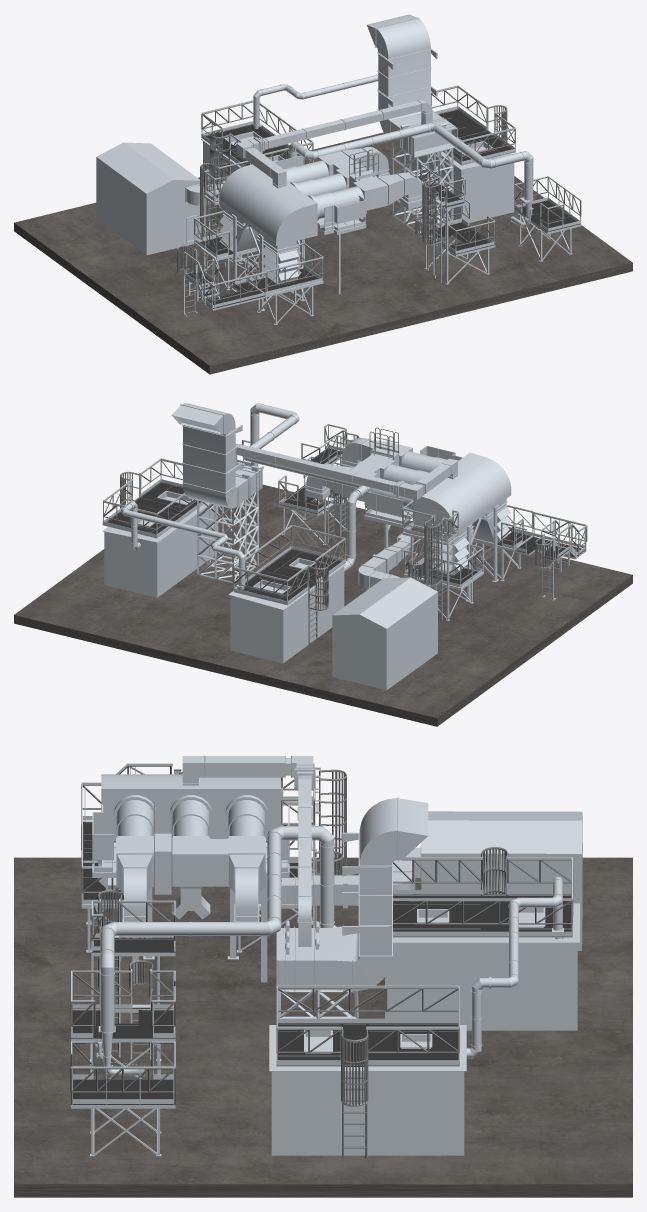
Rendered from part_of_nuclear_power_plant_reactor.glb.
3 renders of one model, top to bottom at view 1: azimuth 30°, elevation 25°; view 2: azimuth 150°, elevation 25°; view 3: azimuth 270°, elevation 25°, orthographic. The views are drawn at different scales.
Parts seen in each view (by area): view 1: Cube.002, GPA2_03, GPA2_04, GPA2_05.001, GPA2_05, GPA2_02, GPA2_02.001, GPA2_01, GPA2_03.001, Cube.003, GPA2_01.001, GPA2_05.004 (+3 smaller); view 2: Cube.002, GPA2_03, GPA2_05, GPA2_04, GPA2_05.001, Cube.003, GPA2_02, GPA2_03.001, GPA2_01, GPA2_05.002, GPA2_05.003, GPA2_05.004 (+3 smaller); view 3: Cube.002, GPA2_03, GPA2_05, GPA2_05.001, GPA2_04, GPA2_02, GPA2_05.004, GPA2_02.001, GPA2_05.002, GPA2_05.003, GPA2_03.001, Cube.003 (+2 smaller).
Boxes of the visible parts, x1=… form: Cube.002: x1=14, y1=132, x2=632, y2=374; GPA2_03: x1=194, y1=14, x2=457, y2=325; GPA2_04: x1=96, y1=142, x2=224, y2=255; GPA2_05.001: x1=400, y1=85, x2=515, y2=222; GPA2_05: x1=201, y1=100, x2=533, y2=228; GPA2_02: x1=415, y1=159, x2=581, y2=284; GPA2_02.001: x1=415, y1=177, x2=581, y2=246; GPA2_01: x1=177, y1=245, x2=266, y2=316; GPA2_03.001: x1=194, y1=163, x2=323, y2=287; Cube.003: x1=391, y1=141, x2=453, y2=233; GPA2_01.001: x1=177, y1=245, x2=267, y2=313; GPA2_05.004: x1=431, y1=87, x2=515, y2=156; Cube.002: x1=14, y1=484, x2=632, y2=726; GPA2_03: x1=171, y1=403, x2=533, y2=620; GPA2_05: x1=228, y1=403, x2=370, y2=663; GPA2_04: x1=332, y1=533, x2=437, y2=690; GPA2_05.001: x1=102, y1=458, x2=218, y2=597; Cube.003: x1=197, y1=490, x2=258, y2=583; GPA2_02: x1=218, y1=424, x2=358, y2=545; GPA2_03.001: x1=404, y1=506, x2=533, y2=612; GPA2_01: x1=514, y1=511, x2=587, y2=600; GPA2_05.002: x1=121, y1=501, x2=245, y2=589; GPA2_05.003: x1=234, y1=527, x2=345, y2=596; GPA2_05.004: x1=103, y1=460, x2=196, y2=529; Cube.002: x1=14, y1=857, x2=632, y2=1197; GPA2_03: x1=81, y1=755, x2=428, y2=992; GPA2_05: x1=96, y1=825, x2=579, y2=1075; GPA2_05.001: x1=269, y1=985, x2=466, y2=1157; GPA2_04: x1=258, y1=811, x2=582, y2=950; GPA2_02: x1=71, y1=890, x2=175, y2=1156; GPA2_05.004: x1=276, y1=988, x2=459, y2=1158; GPA2_02.001: x1=70, y1=890, x2=175, y2=1092; GPA2_05.002: x1=466, y1=876, x2=564, y2=1058; GPA2_05.003: x1=393, y1=859, x2=573, y2=924; GPA2_03.001: x1=81, y1=770, x2=346, y2=921; Cube.003: x1=278, y1=990, x2=358, y2=1018.
Bounding box in the file's own units: 5.25 × 2.22 × 4.21.
Materials: 4 (4 with a texture image).
